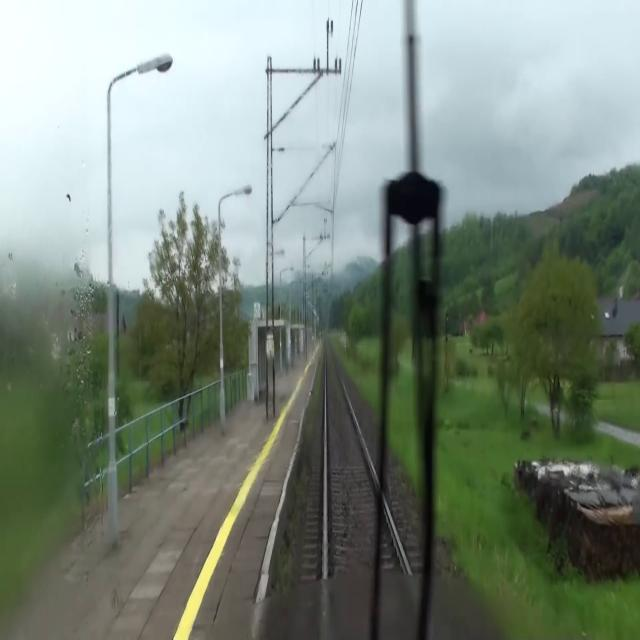rail-track: (327, 340, 371, 639)
